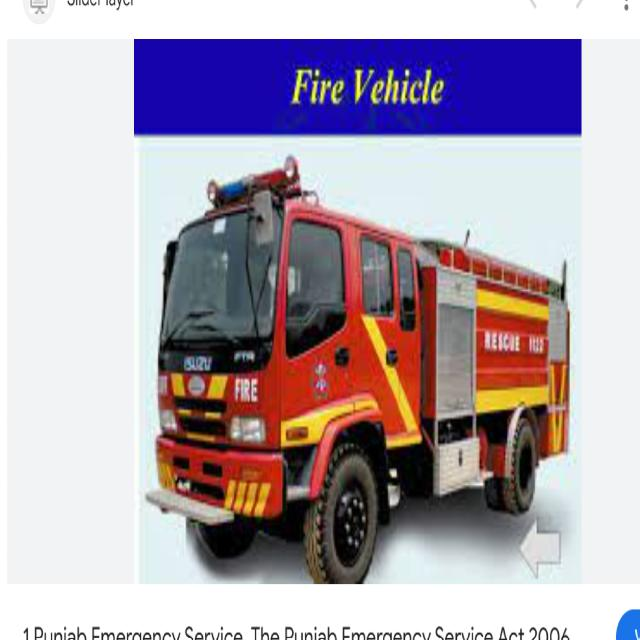fire brigade: (140, 201, 632, 552)
